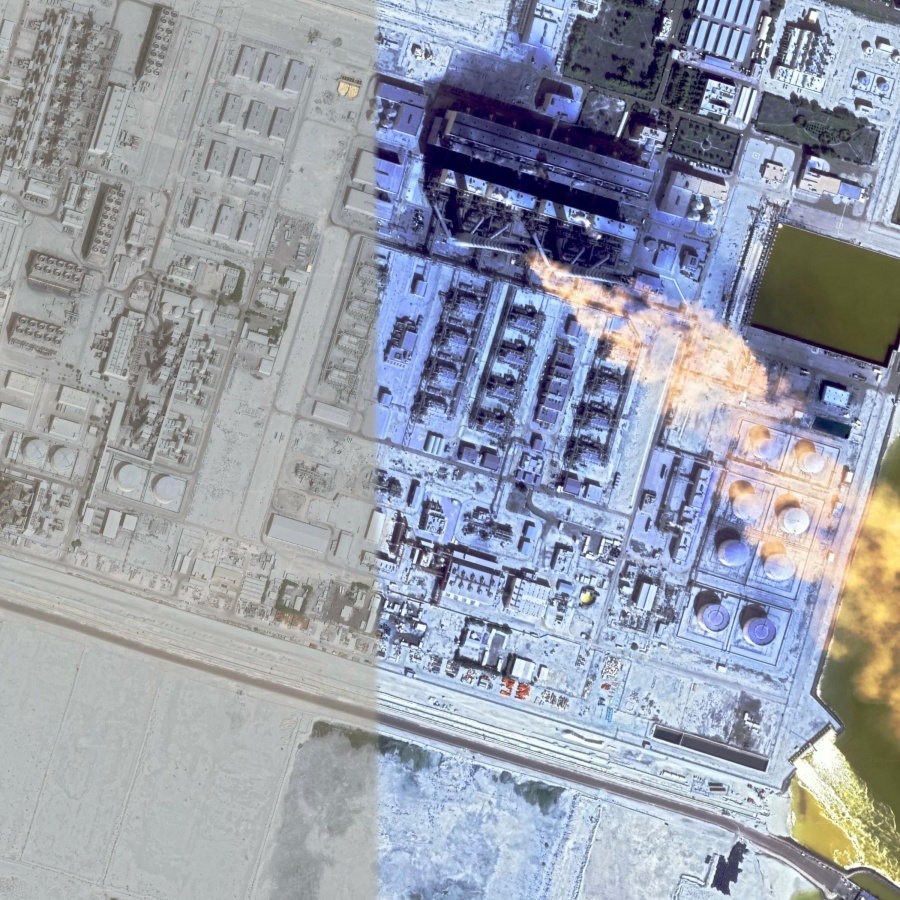PowerPlant: (316, 57, 864, 689)
